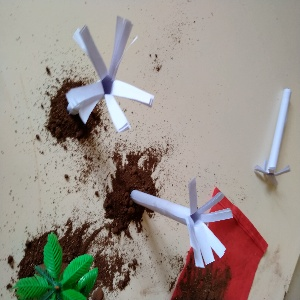plant: (12, 228, 104, 300)
weed: (46, 11, 154, 130), (127, 172, 237, 273), (250, 75, 300, 193)
